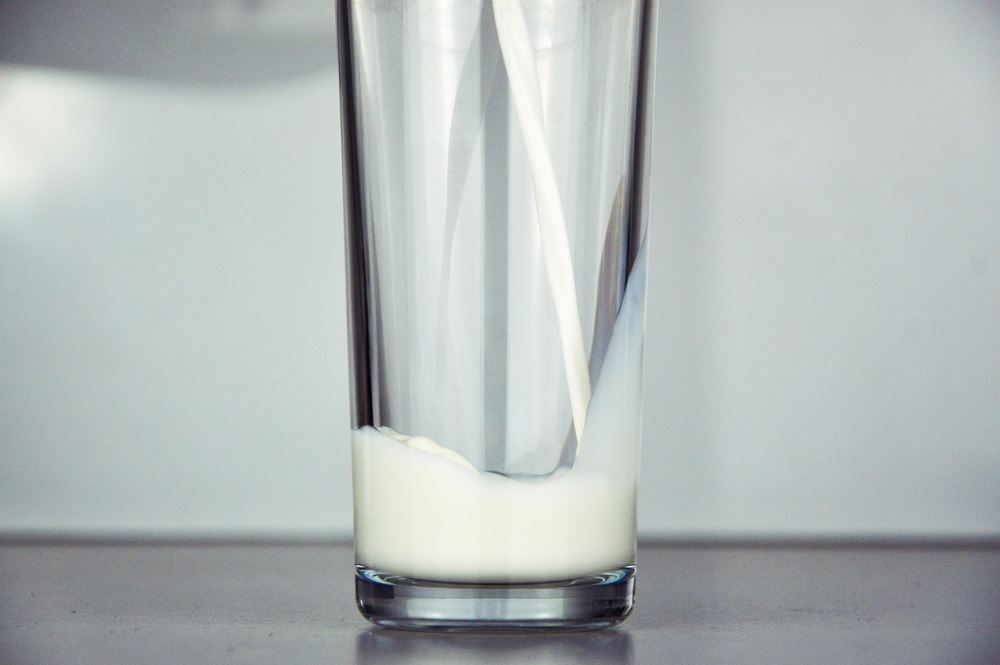glass of milk: (340, 58, 645, 618)
